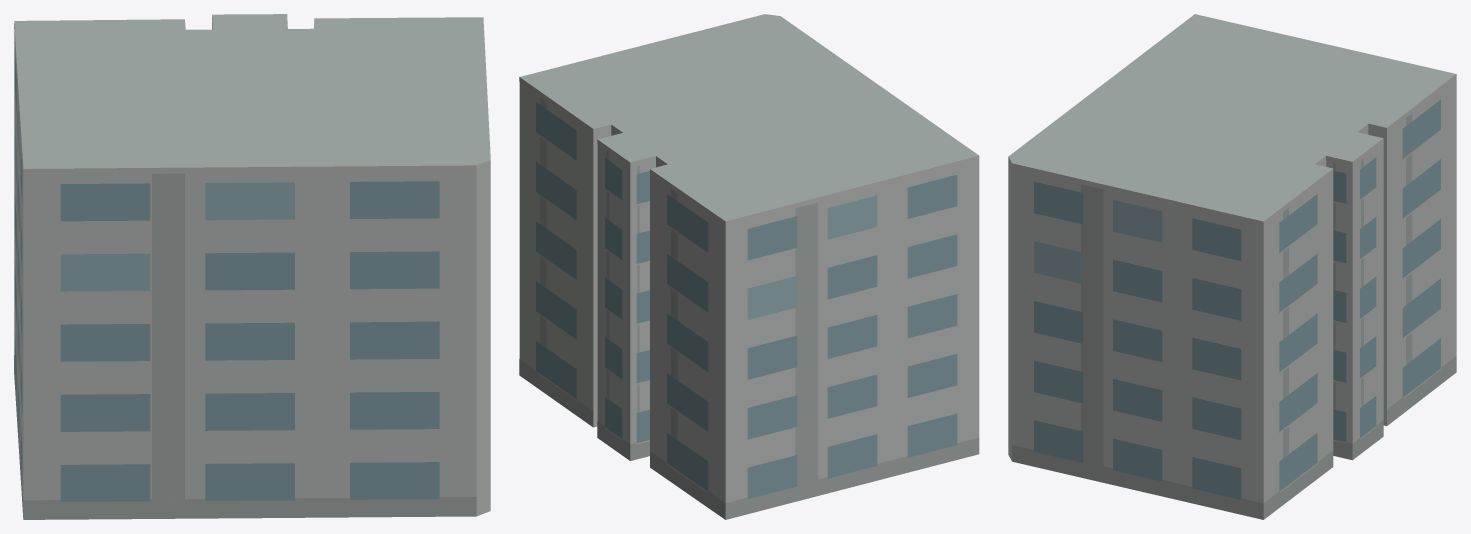
Rendered from survey-upis-32682615.glb.
3 views of the same model, side by side, from view 1: azimuth 30°, elevation 25°; view 2: azimuth 150°, elevation 25°; view 3: azimuth 270°, elevation 25° (orthographic). The views are drawn at different scales.
Visible parts, largest first — view 1: survey-upis-32682615.tmp; view 2: survey-upis-32682615.tmp; view 3: survey-upis-32682615.tmp.
Part boxes in pixels (x1,y1,x2,y2): survey-upis-32682615.tmp: (14, 14, 490, 519); survey-upis-32682615.tmp: (519, 14, 979, 519); survey-upis-32682615.tmp: (1008, 14, 1456, 519).
Bounding box in the file's own units: 21.19 × 14.2 × 19.34.
